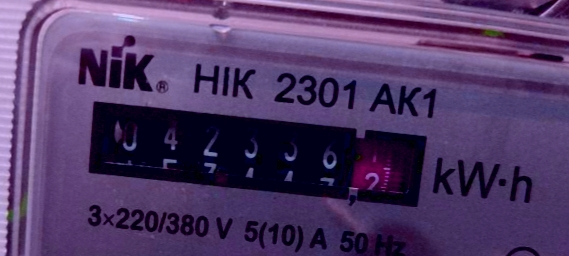0: (119, 115, 142, 152)
1: (367, 134, 383, 165)
2: (199, 120, 223, 158), (361, 168, 382, 191)
3: (240, 121, 264, 161), (278, 125, 302, 163)
4: (160, 112, 183, 151)
6: (317, 133, 343, 170)
screen: (77, 85, 437, 218)
